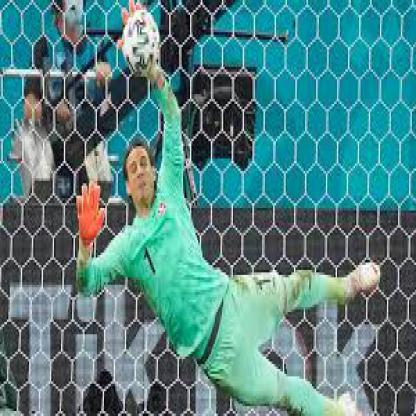goal: (60, 4, 218, 303)
